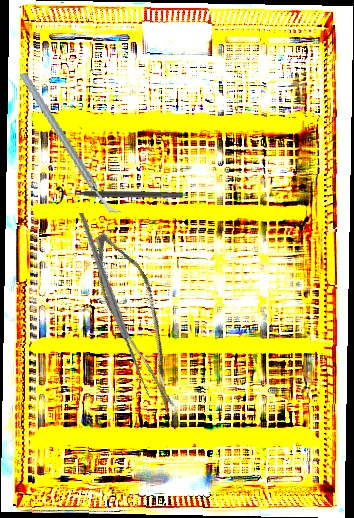Chopper: (19, 61, 122, 226)
Fixation Ring: (56, 185, 183, 205)
Hook Surgical: (50, 212, 189, 400)
Micro Scissor: (65, 226, 215, 414)
